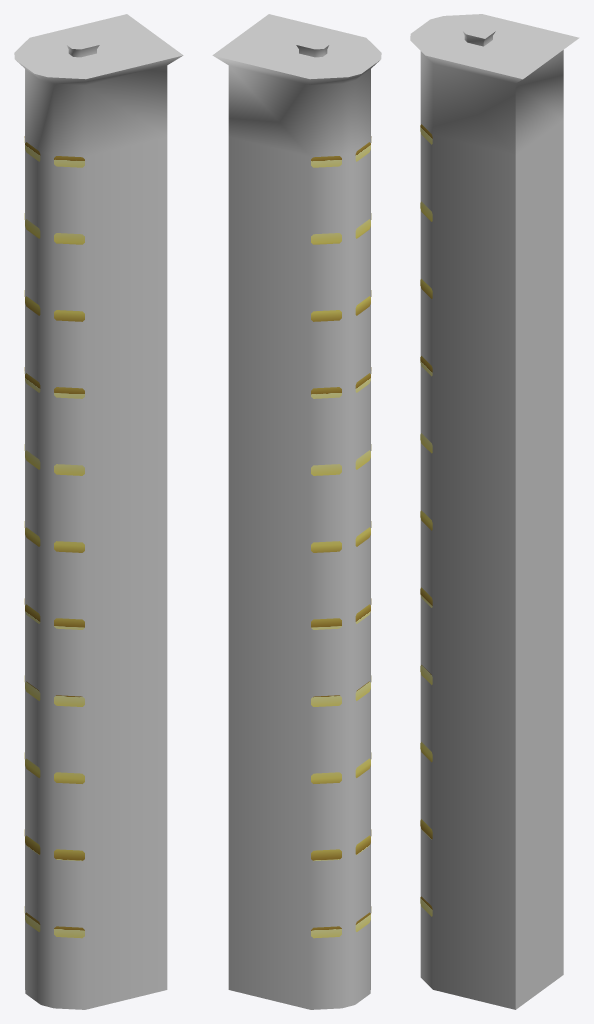
Rendered from fondo_edificioB.fbx.
3 views of the same model, side by side, from view 1: azimuth 30°, elevation 25°; view 2: azimuth 150°, elevation 25°; view 3: azimuth 330°, elevation 25° (orthographic).
Visible parts, largest first — view 1: edificioA.001; view 2: edificioA.001; view 3: edificioA.001.
Boxes of the visible parts, x1,y1,x2,y2 form: edificioA.001: [14, 14, 183, 1009]; edificioA.001: [212, 14, 381, 1009]; edificioA.001: [410, 14, 579, 1009].
Bounding box in the file's own units: 473 × 3265 × 355.
